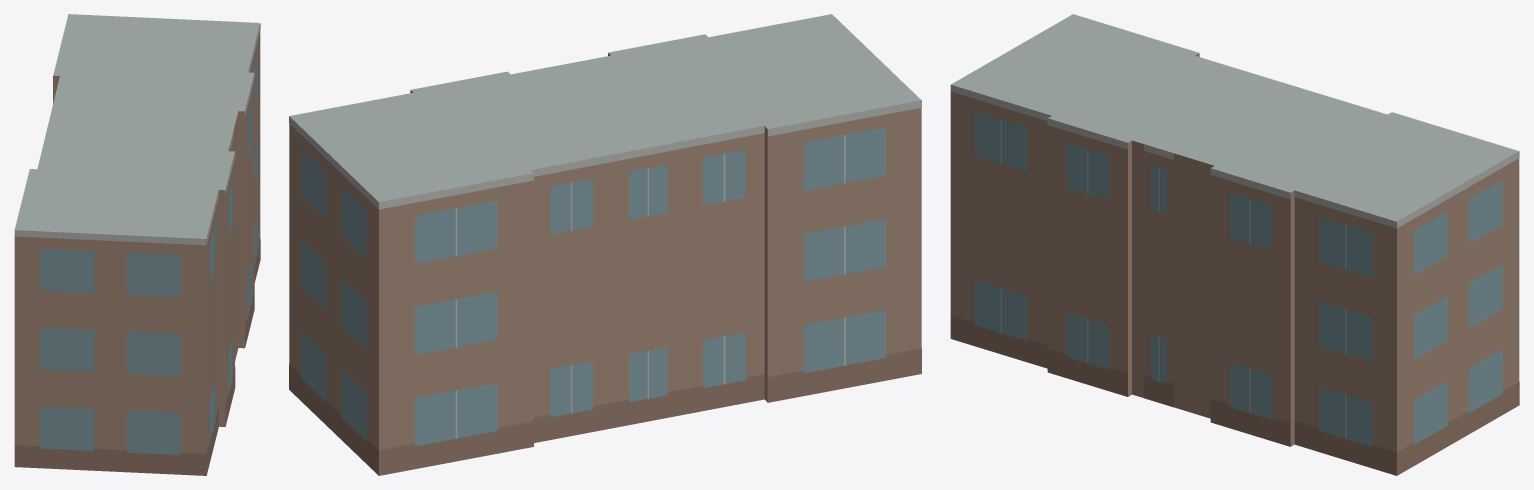
Rendered from survey-upis-32949256.glb.
3 views of the same model, side by side, from view 1: azimuth 30°, elevation 25°; view 2: azimuth 150°, elevation 25°; view 3: azimuth 270°, elevation 25° (orthographic). The views are drawn at different scales.
Parts seen in each view (by area): view 1: survey-upis-32949256.tmp; view 2: survey-upis-32949256.tmp; view 3: survey-upis-32949256.tmp.
Boxes of the visible parts, x1=… form: survey-upis-32949256.tmp: x1=14, y1=14, x2=260, y2=475; survey-upis-32949256.tmp: x1=289, y1=14, x2=921, y2=475; survey-upis-32949256.tmp: x1=950, y1=14, x2=1519, y2=475.
Bounding box in the file's own units: 16.05 × 9.15 × 18.57.
